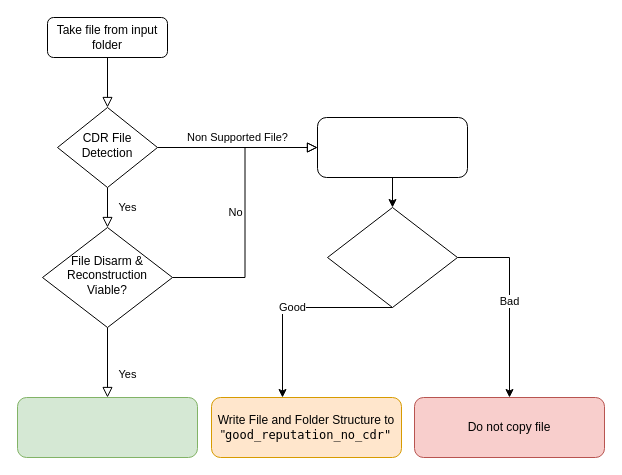
Image size: 622x475. Some labels were removed from this diagram. The shapes that lost their labels are listed below. From the top down, each one's centre as x and y in pixels, then its label:
(392,147): Query Reputation Service and write report to " reputation_report"
(392,257): Malware Reputation Good or Bad?
(107,427): Write File and Folder Structure to " clean_cdr"
